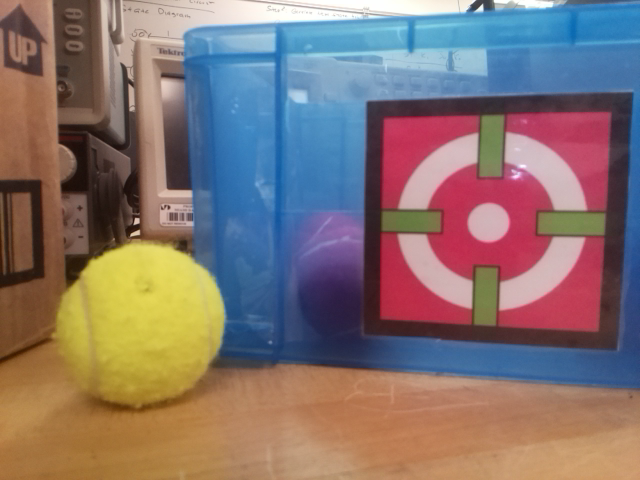drop-bin: (362, 90, 634, 350)
yellow-ball: (53, 239, 229, 412)
